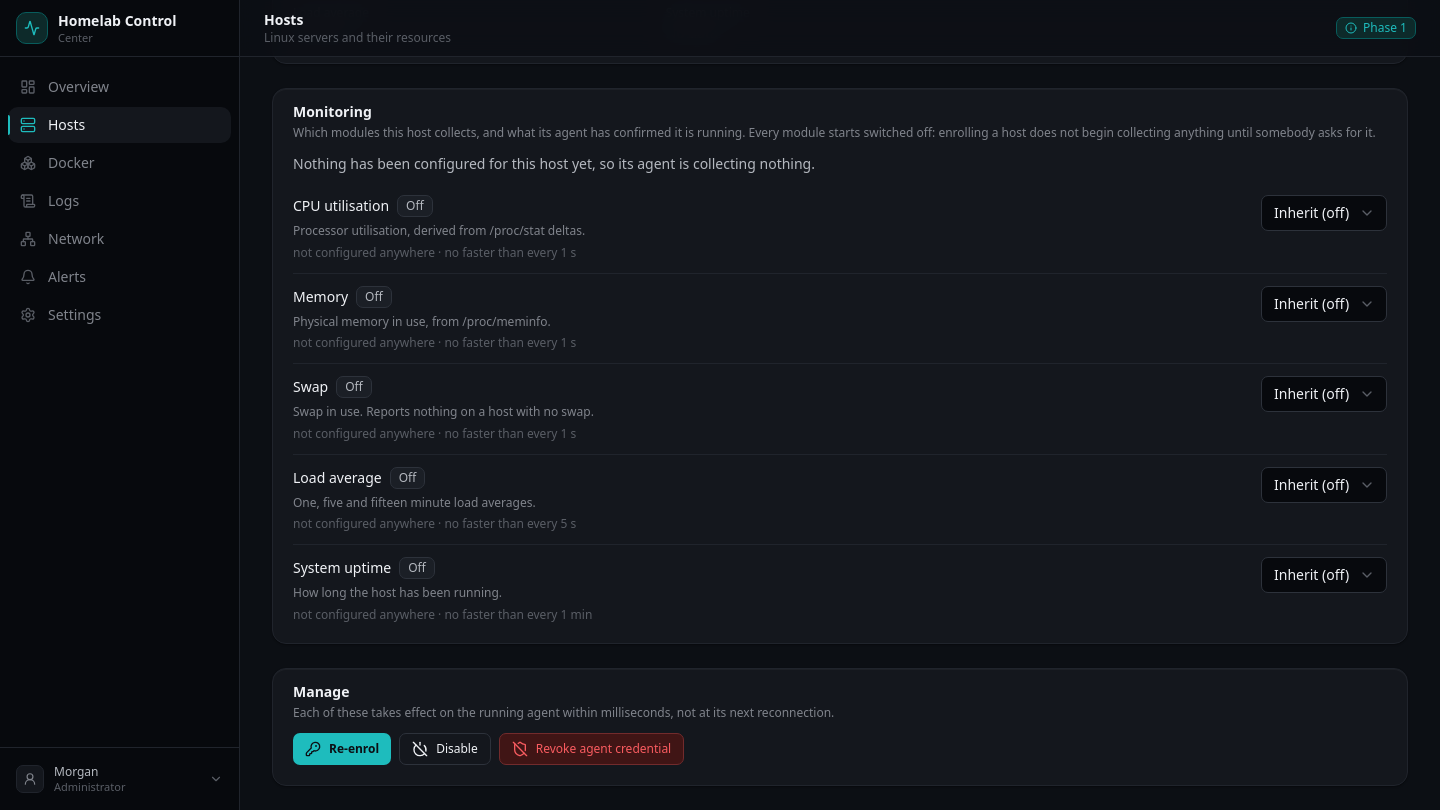
Test: revoking › moves the host to revoked and offline
The image size is (1440, 810).
(page scrolled)
What coordinates should you click on to do the following:
click the button "Revoke agent credential"
I would click on:
 (592, 749)
Its box is [499,733,684,765].
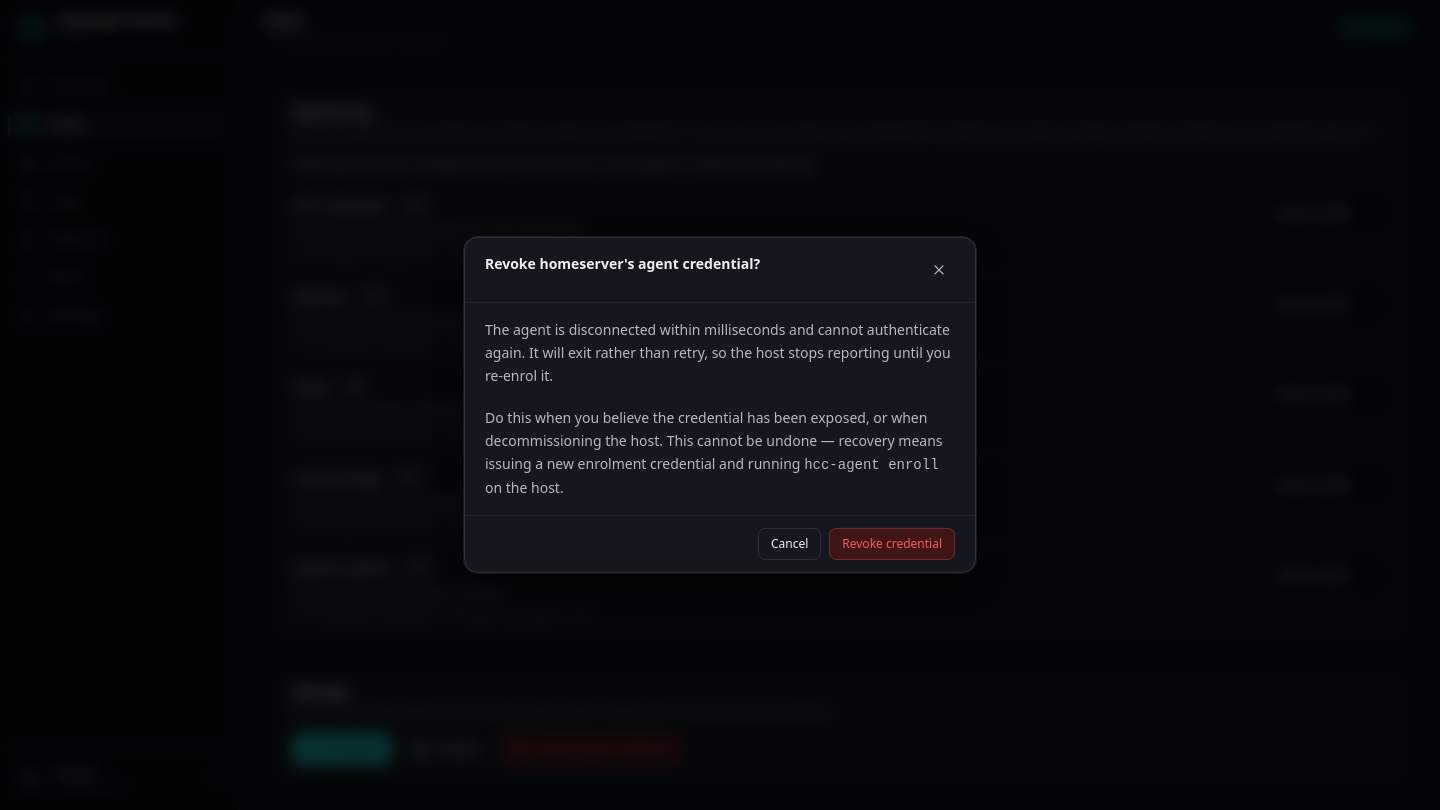
What coordinates should you click on to do the following:
click the button "Revoke credential"
I would click on:
 (892, 544)
Its box is [829,528,955,560].
(page scrolled)
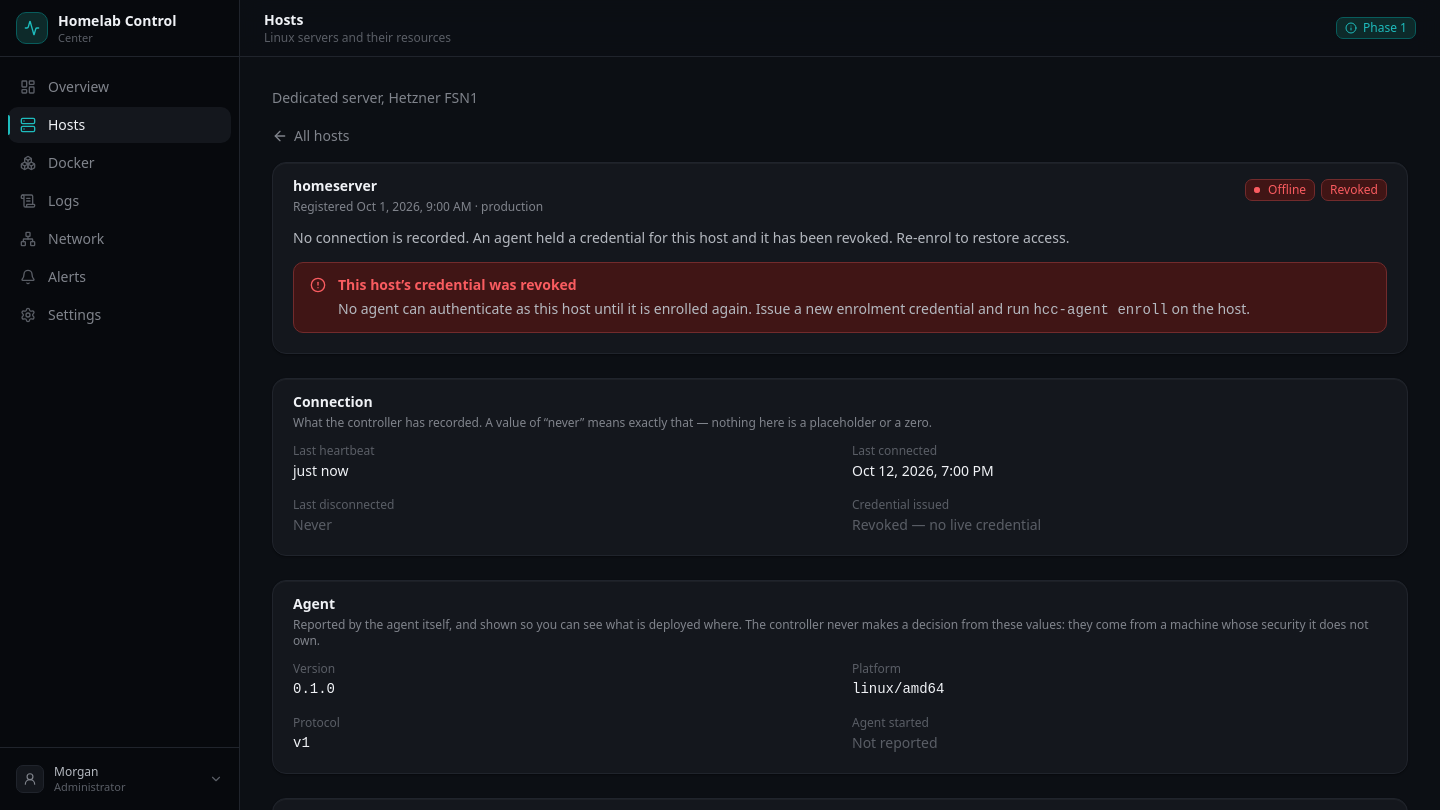
Now the text "Revoked" is shown, box [1321,179,1387,201]
